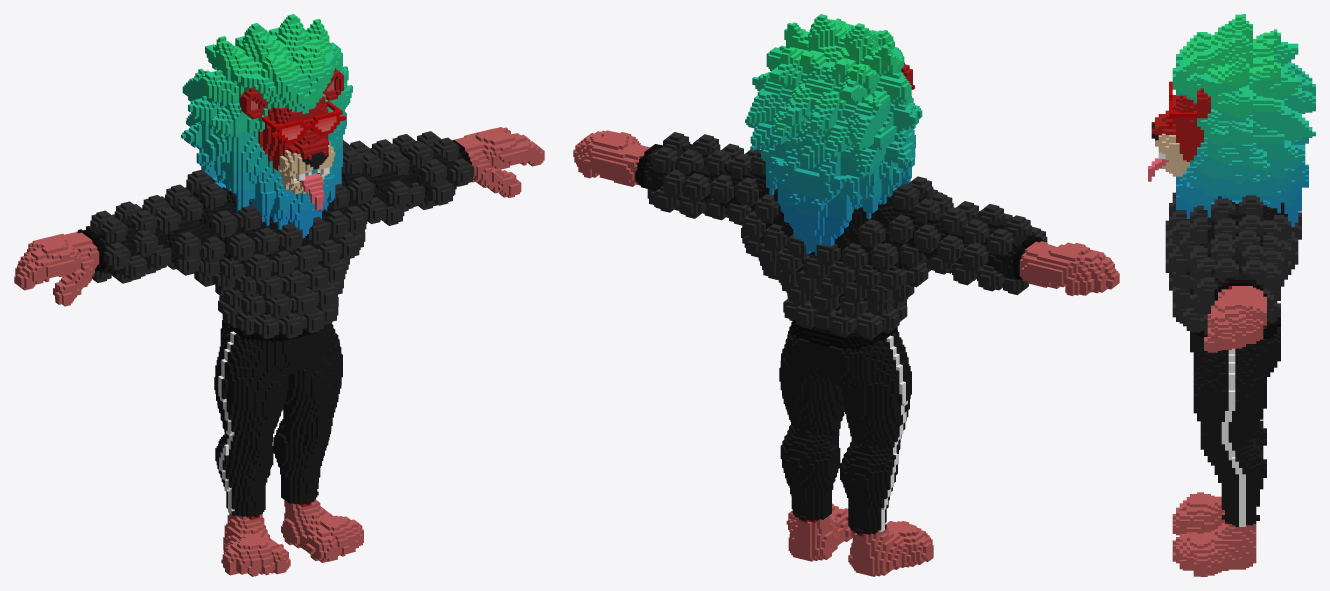
The picture shows the model from 3 angles, left to right: view 1: azimuth 30°, elevation 25°; view 2: azimuth 150°, elevation 25°; view 3: azimuth 270°, elevation 25°; orthographic projection. The views are drawn at different scales.
Parts seen in each view (by area): view 1: tongue_out; view 2: tongue_out; view 3: tongue_out.
Part boxes in pixels (bbox=[...]): tongue_out: bbox=[14, 14, 544, 576]; tongue_out: bbox=[573, 14, 1119, 576]; tongue_out: bbox=[1148, 14, 1315, 576].
Size of the model in its own units: 17.2 by 16.5 by 4.8.
Materials: 5 (5 with a texture image).
